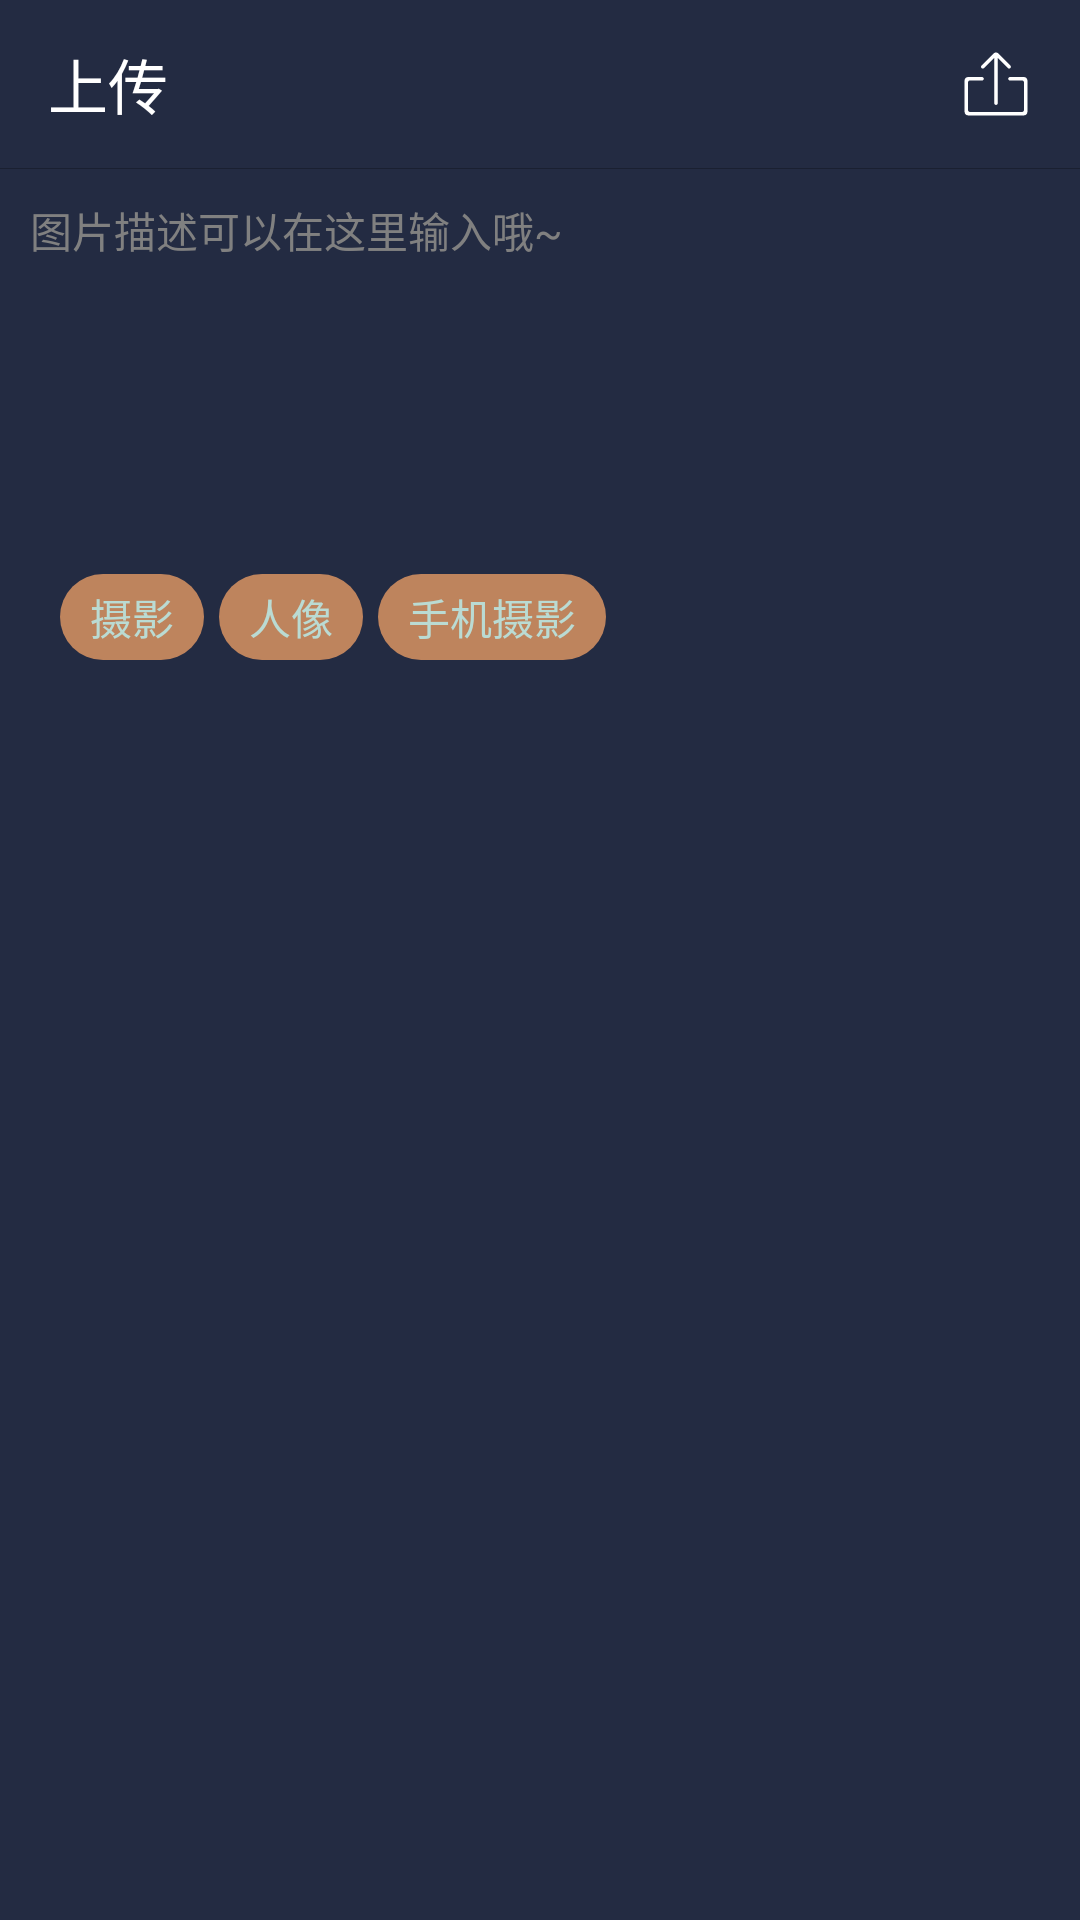

Where icons sit on this 1080×1920 app screen, as (x1, y1, x2, y2):
share: (964, 52, 1028, 116)
